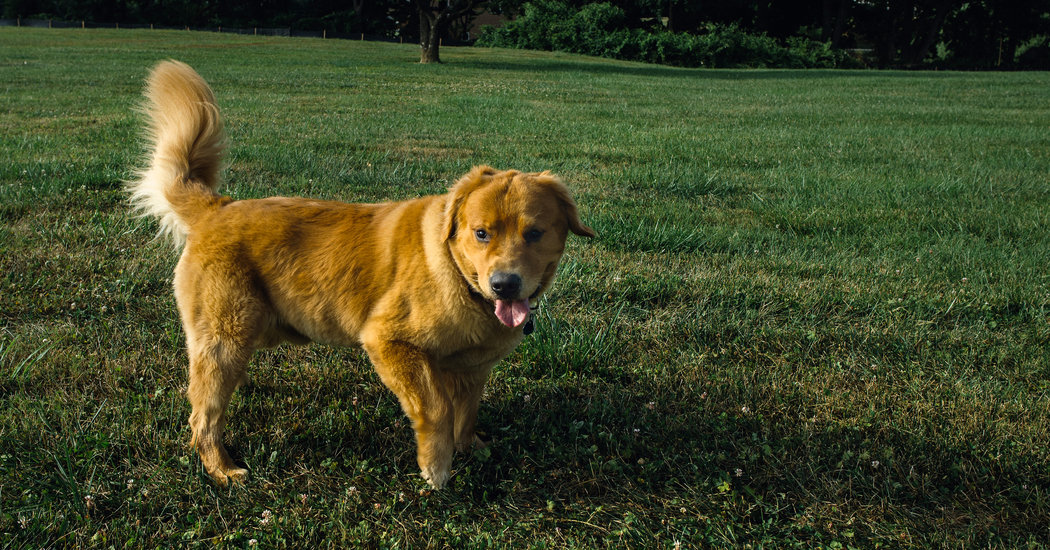dog: (134, 66, 562, 485)
